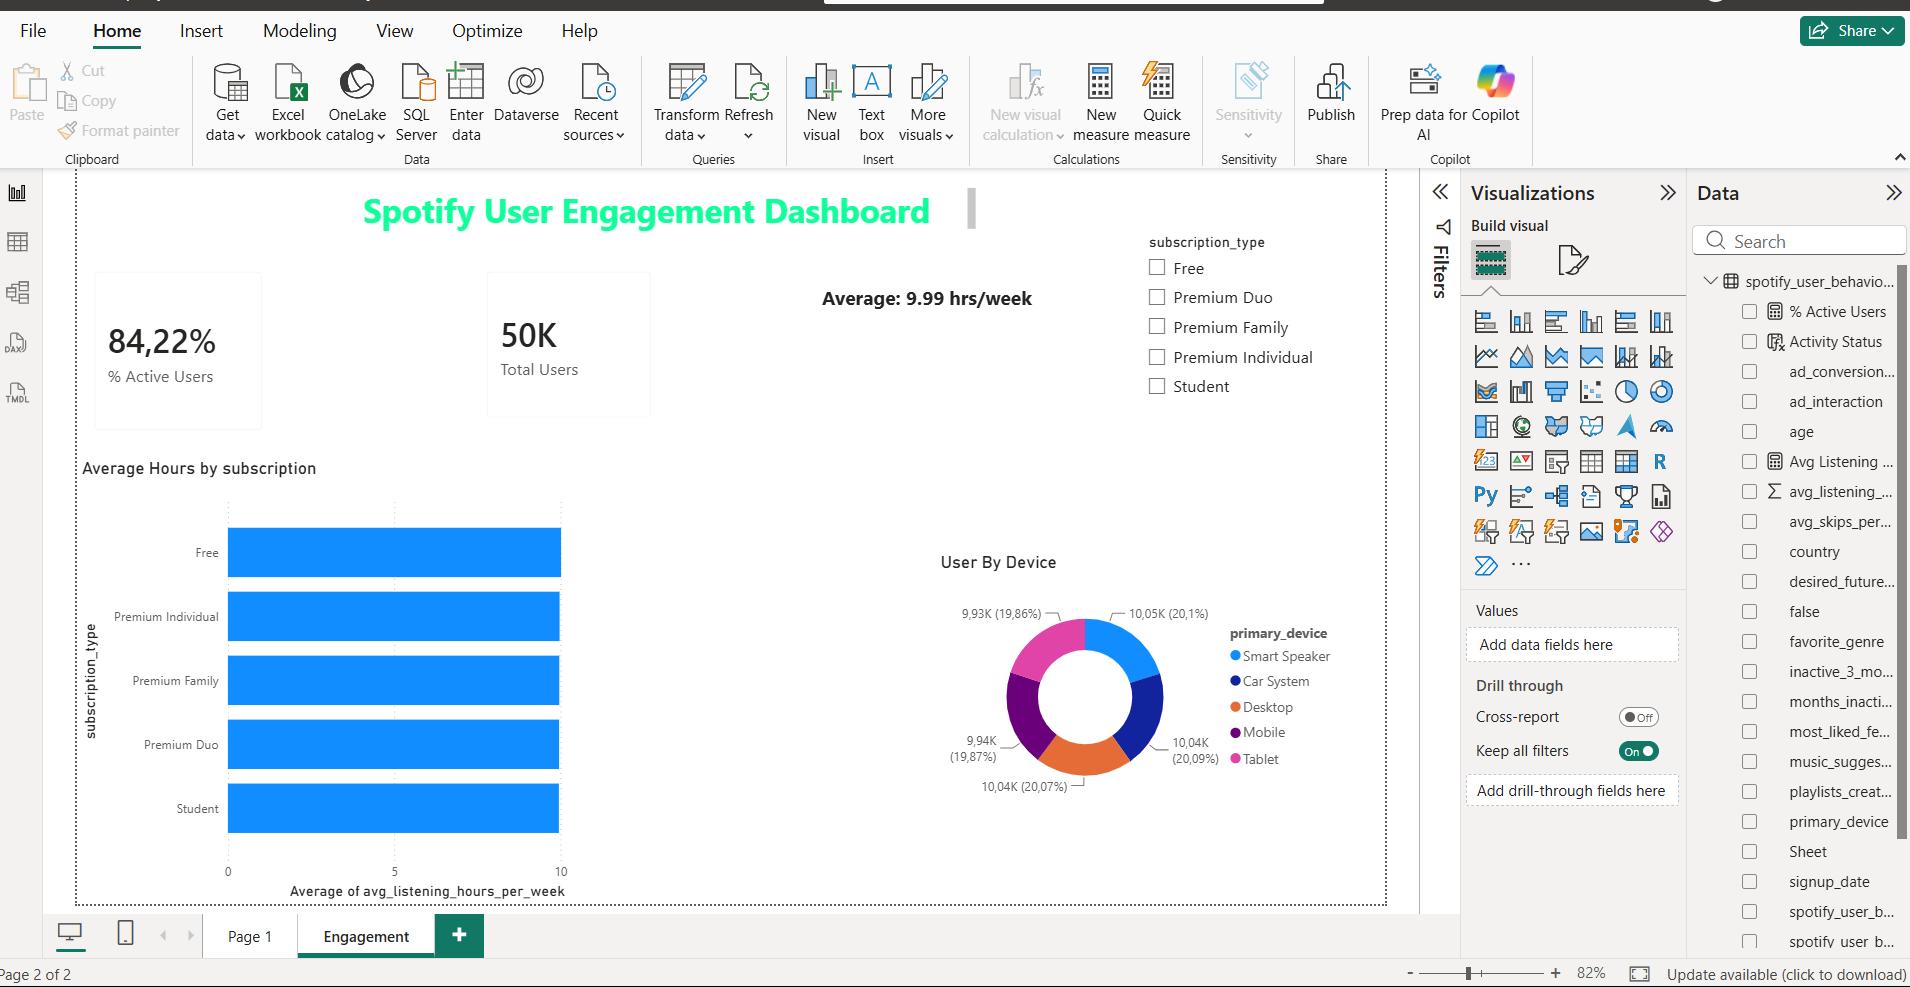

This screenshot's page, from the dashboard's own definition file:
{"tool":"powerbi","page":{"name":"Engagement","canvas":[1280,720],"ordinal":1},"visuals":[{"type":"cardVisual","fields":{"Data":["spotify_user_behavior_realistic.% Active Users"]},"box":[0,84.4,198.1,189.5],"z":0},{"type":"clusteredBarChart","title":"Average Hours by subscription","fields":{"Category":["spotify_user_behavior_realistic.subscription_type"],"Y":["Avg(spotify_user_behavior_realistic.avg_listening_hours_per_week)"]},"box":[0,284,550.3,436.4],"z":1000},{"type":"donutChart","title":"      User By Device","fields":{"Category":["spotify_user_behavior_realistic.primary_device"],"Y":["CountNonNull(spotify_user_behavior_realistic.user_id)"]},"box":[840.1,375.4,403.5,254.3],"z":2000},{"type":"textbox","box":[723.9,108.8,231.1,40.4],"z":3000},{"type":"slicer","fields":{"Values":["spotify_user_behavior_realistic.subscription_type"]},"box":[1035.7,58.7,195.7,179.8],"z":4000},{"type":"textbox","box":[275.1,14.7,609,58.7],"z":5000},{"type":"cardVisual","fields":{"Data":["spotify_user_behavior_realistic.Total Users"]},"box":[384,84.4,195.7,177.3],"z":6000}]}

Visuals, with their boxes on the page's 1280x720 design canvas (x1, y1, x2, y2). These are canvas units, not pixel positions in the 1910x987 screenshot, which may show the page scaled, cropped or inside an application window:
cardVisual - spotify_user_behavior_realistic.% Active Users: bbox(0, 84, 198, 274)
"Average Hours by subscription" clusteredBarChart: bbox(0, 284, 550, 720)
"      User By Device" donutChart: bbox(840, 375, 1244, 630)
textbox: bbox(724, 109, 955, 149)
slicer - spotify_user_behavior_realistic.subscription_type: bbox(1036, 59, 1231, 238)
textbox: bbox(275, 15, 884, 73)
cardVisual - spotify_user_behavior_realistic.Total Users: bbox(384, 84, 580, 262)
